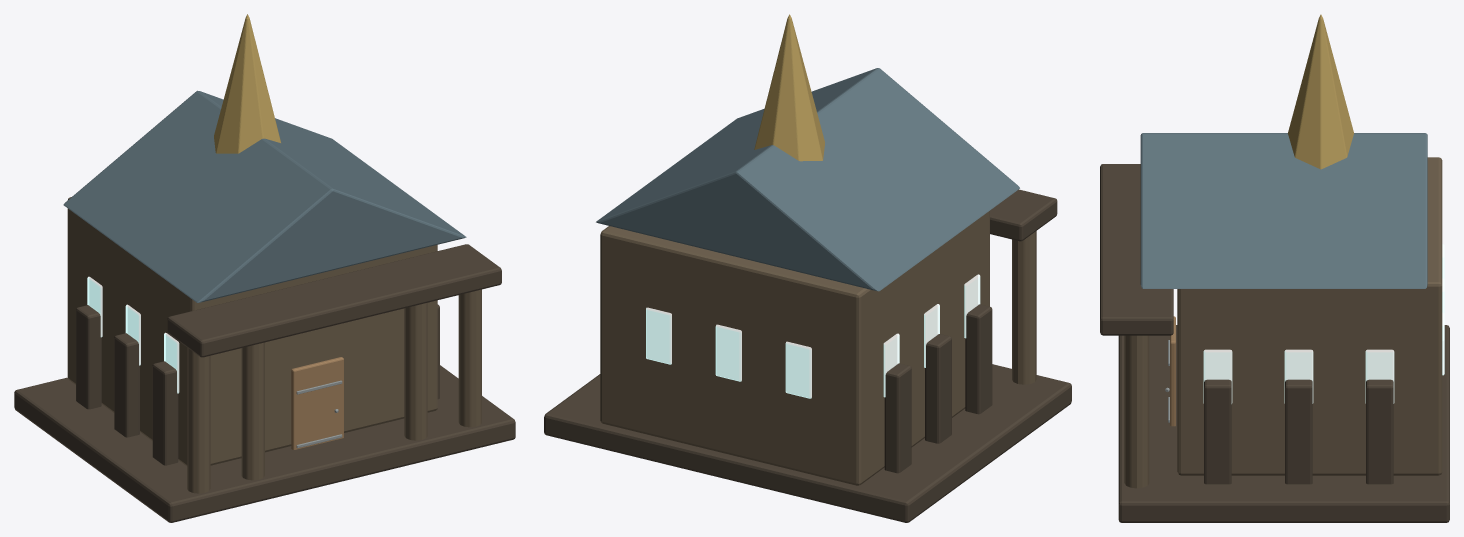
File: temple.glb
3 views of the same model, side by side, from view 1: azimuth 30°, elevation 25°; view 2: azimuth 150°, elevation 25°; view 3: azimuth 270°, elevation 25° (orthographic). The views are drawn at different scales.
Parts seen in each view (by area): view 1: TempleRoof, TempleNave, TempleBase, TemplePortico, TempleSpire, INTERACT_TempleDoor, TempleColumn, TempleColumn.001, TempleColumn.002, TempleColumn.003, TempleButtress, TempleButtress.001 (+1 smaller); view 2: TempleNave, TempleRoof, TempleBase, TempleSpire, TempleColumn, TempleButtress.002, TempleButtress, TempleButtress.001, TemplePortico, TempleRearWindow.001, TempleRearWindow, TempleRearWindow.002 (+2 smaller); view 3: TempleNave, TempleRoof, TempleBase, TemplePortico, TempleSpire, TempleColumn.003, TempleButtress.003, TempleButtress.004, TempleButtress.005, TempleStainedWindow.003, TempleStainedWindow.004, TempleStainedWindow.005 (+1 smaller).
Part boxes in pixels (x1,y1,x2,y2): TempleRoof: (63, 90, 466, 302); TempleNave: (67, 197, 437, 466); TempleBase: (14, 365, 515, 522); TemplePortico: (167, 244, 501, 357); TempleSpire: (214, 14, 280, 153); INTERACT_TempleDoor: (291, 357, 343, 449); TempleColumn: (187, 348, 210, 493); TempleColumn.001: (241, 342, 264, 480); TempleColumn.002: (404, 303, 427, 440); TempleColumn.003: (458, 289, 481, 427); TempleButtress: (152, 361, 178, 465); TempleButtress.001: (114, 333, 139, 437); TempleNave: (600, 211, 989, 485); TempleRoof: (596, 68, 1019, 291); TempleBase: (544, 364, 1071, 522); TempleSpire: (754, 14, 824, 161); TempleColumn: (1012, 231, 1036, 384); TempleButtress.002: (884, 363, 911, 473); TempleButtress: (965, 304, 992, 414); TempleButtress.001: (925, 334, 951, 443); TemplePortico: (990, 189, 1057, 241); TempleRearWindow.001: (715, 324, 741, 381); TempleRearWindow: (785, 341, 811, 398); TempleRearWindow.002: (646, 307, 671, 364); TempleNave: (1177, 157, 1442, 475); TempleRoof: (1140, 133, 1427, 288); TempleBase: (1118, 325, 1449, 522); TemplePortico: (1100, 164, 1173, 335); TempleSpire: (1288, 14, 1354, 169); TempleColumn.003: (1124, 335, 1149, 488); TempleButtress.003: (1204, 379, 1231, 484); TempleButtress.004: (1285, 379, 1312, 484); TempleButtress.005: (1366, 379, 1393, 484); TempleStainedWindow.003: (1203, 349, 1232, 403); TempleStainedWindow.004: (1284, 349, 1313, 403); TempleStainedWindow.005: (1365, 349, 1394, 403).
Size of the model in its own units: 11.5 by 12.62 by 9.5.
